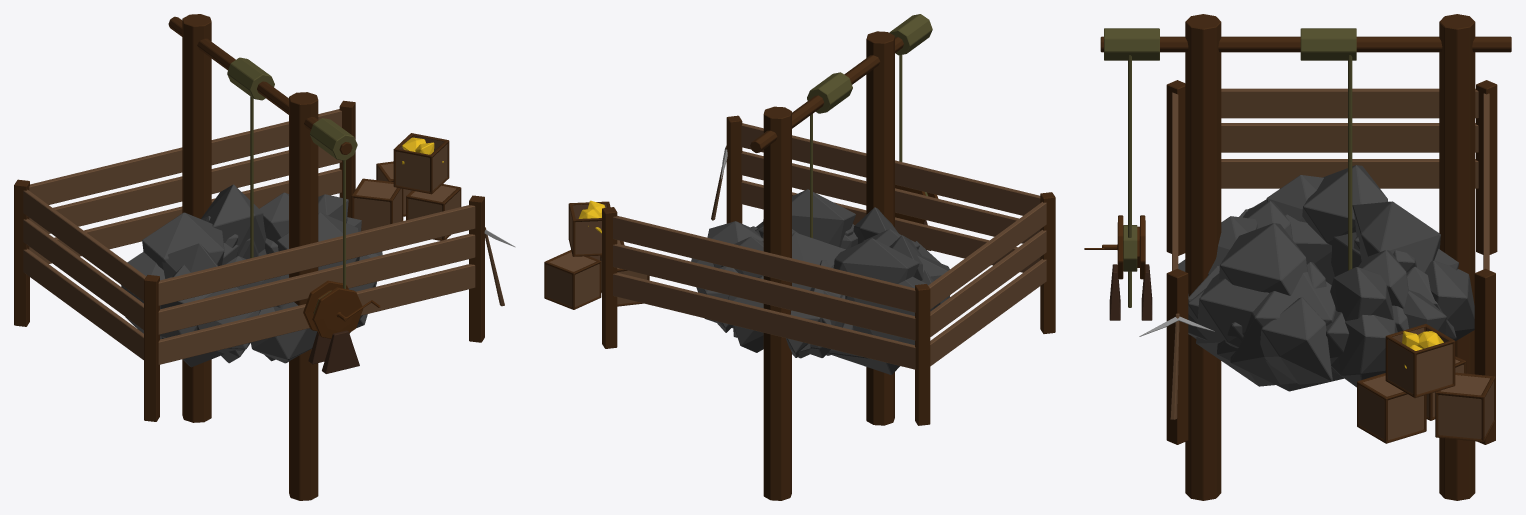
Rendered from GoldenMine.fbx.
3 views of the same model, side by side, from view 1: azimuth 30°, elevation 25°; view 2: azimuth 150°, elevation 25°; view 3: azimuth 270°, elevation 25° (orthographic). The views are drawn at different scales.
Visible parts, largest first — view 1: Цилиндр.011; view 2: Цилиндр.011; view 3: Цилиндр.011.
Part boxes in pixels (<box>): Цилиндр.011: <box>14,14,515,500</box>; Цилиндр.011: <box>544,14,1055,500</box>; Цилиндр.011: <box>1084,14,1511,500</box>.
Size of the model in its own units: 542 by 508 by 416.
